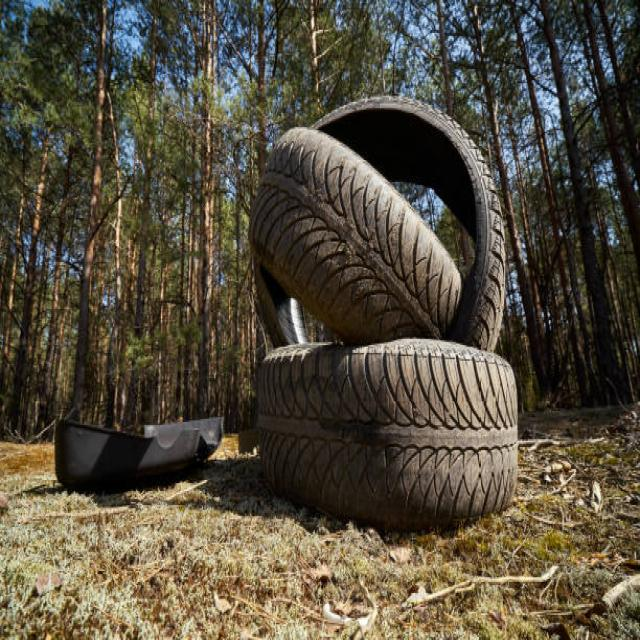tire: (247, 124, 463, 343)
